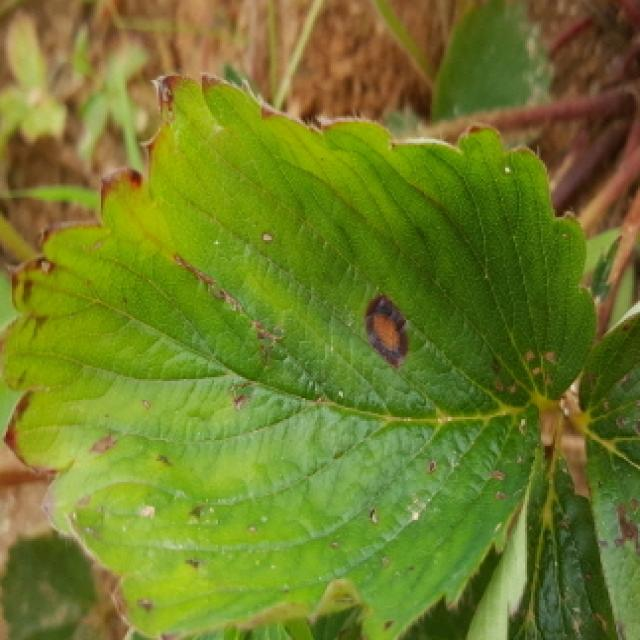Leaf Spot: (0, 71, 598, 640)
